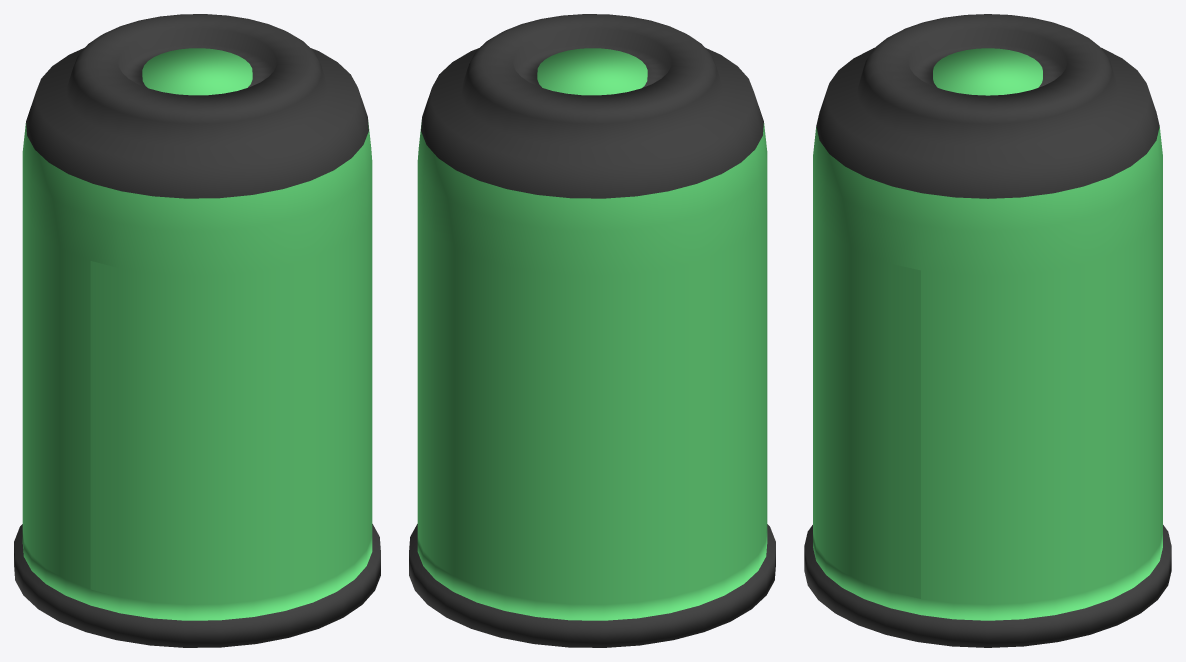
The model's file is birth_machine2.glb.
The picture shows the model from 3 angles, left to right: view 1: azimuth 30°, elevation 25°; view 2: azimuth 150°, elevation 25°; view 3: azimuth 270°, elevation 25°; orthographic projection.
Parts seen in each view (by area): view 1: Sphere.006, Sphere.007; view 2: Sphere.006, Sphere.007; view 3: Sphere.006, Sphere.007.
Boxes of the visible parts, <box> form: Sphere.006: <box>14,14,380,647</box>; Sphere.007: <box>90,207,372,604</box>; Sphere.006: <box>409,14,775,647</box>; Sphere.007: <box>766,200,767,536</box>; Sphere.006: <box>804,14,1171,647</box>; Sphere.007: <box>813,203,920,598</box>.
Size of the model in its own units: 0.591 by 0.9018 by 0.591.
